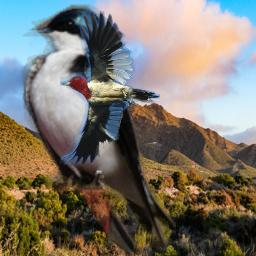Swallow: (21, 4, 176, 255)
Woodpecker: (60, 11, 160, 166)
